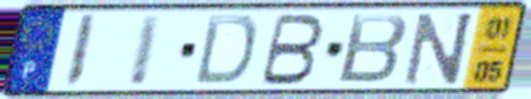B: (334, 11, 411, 86), (256, 12, 327, 88)
D: (191, 13, 260, 88)
I: (125, 12, 166, 89), (61, 12, 100, 90)
N: (401, 10, 478, 88)
